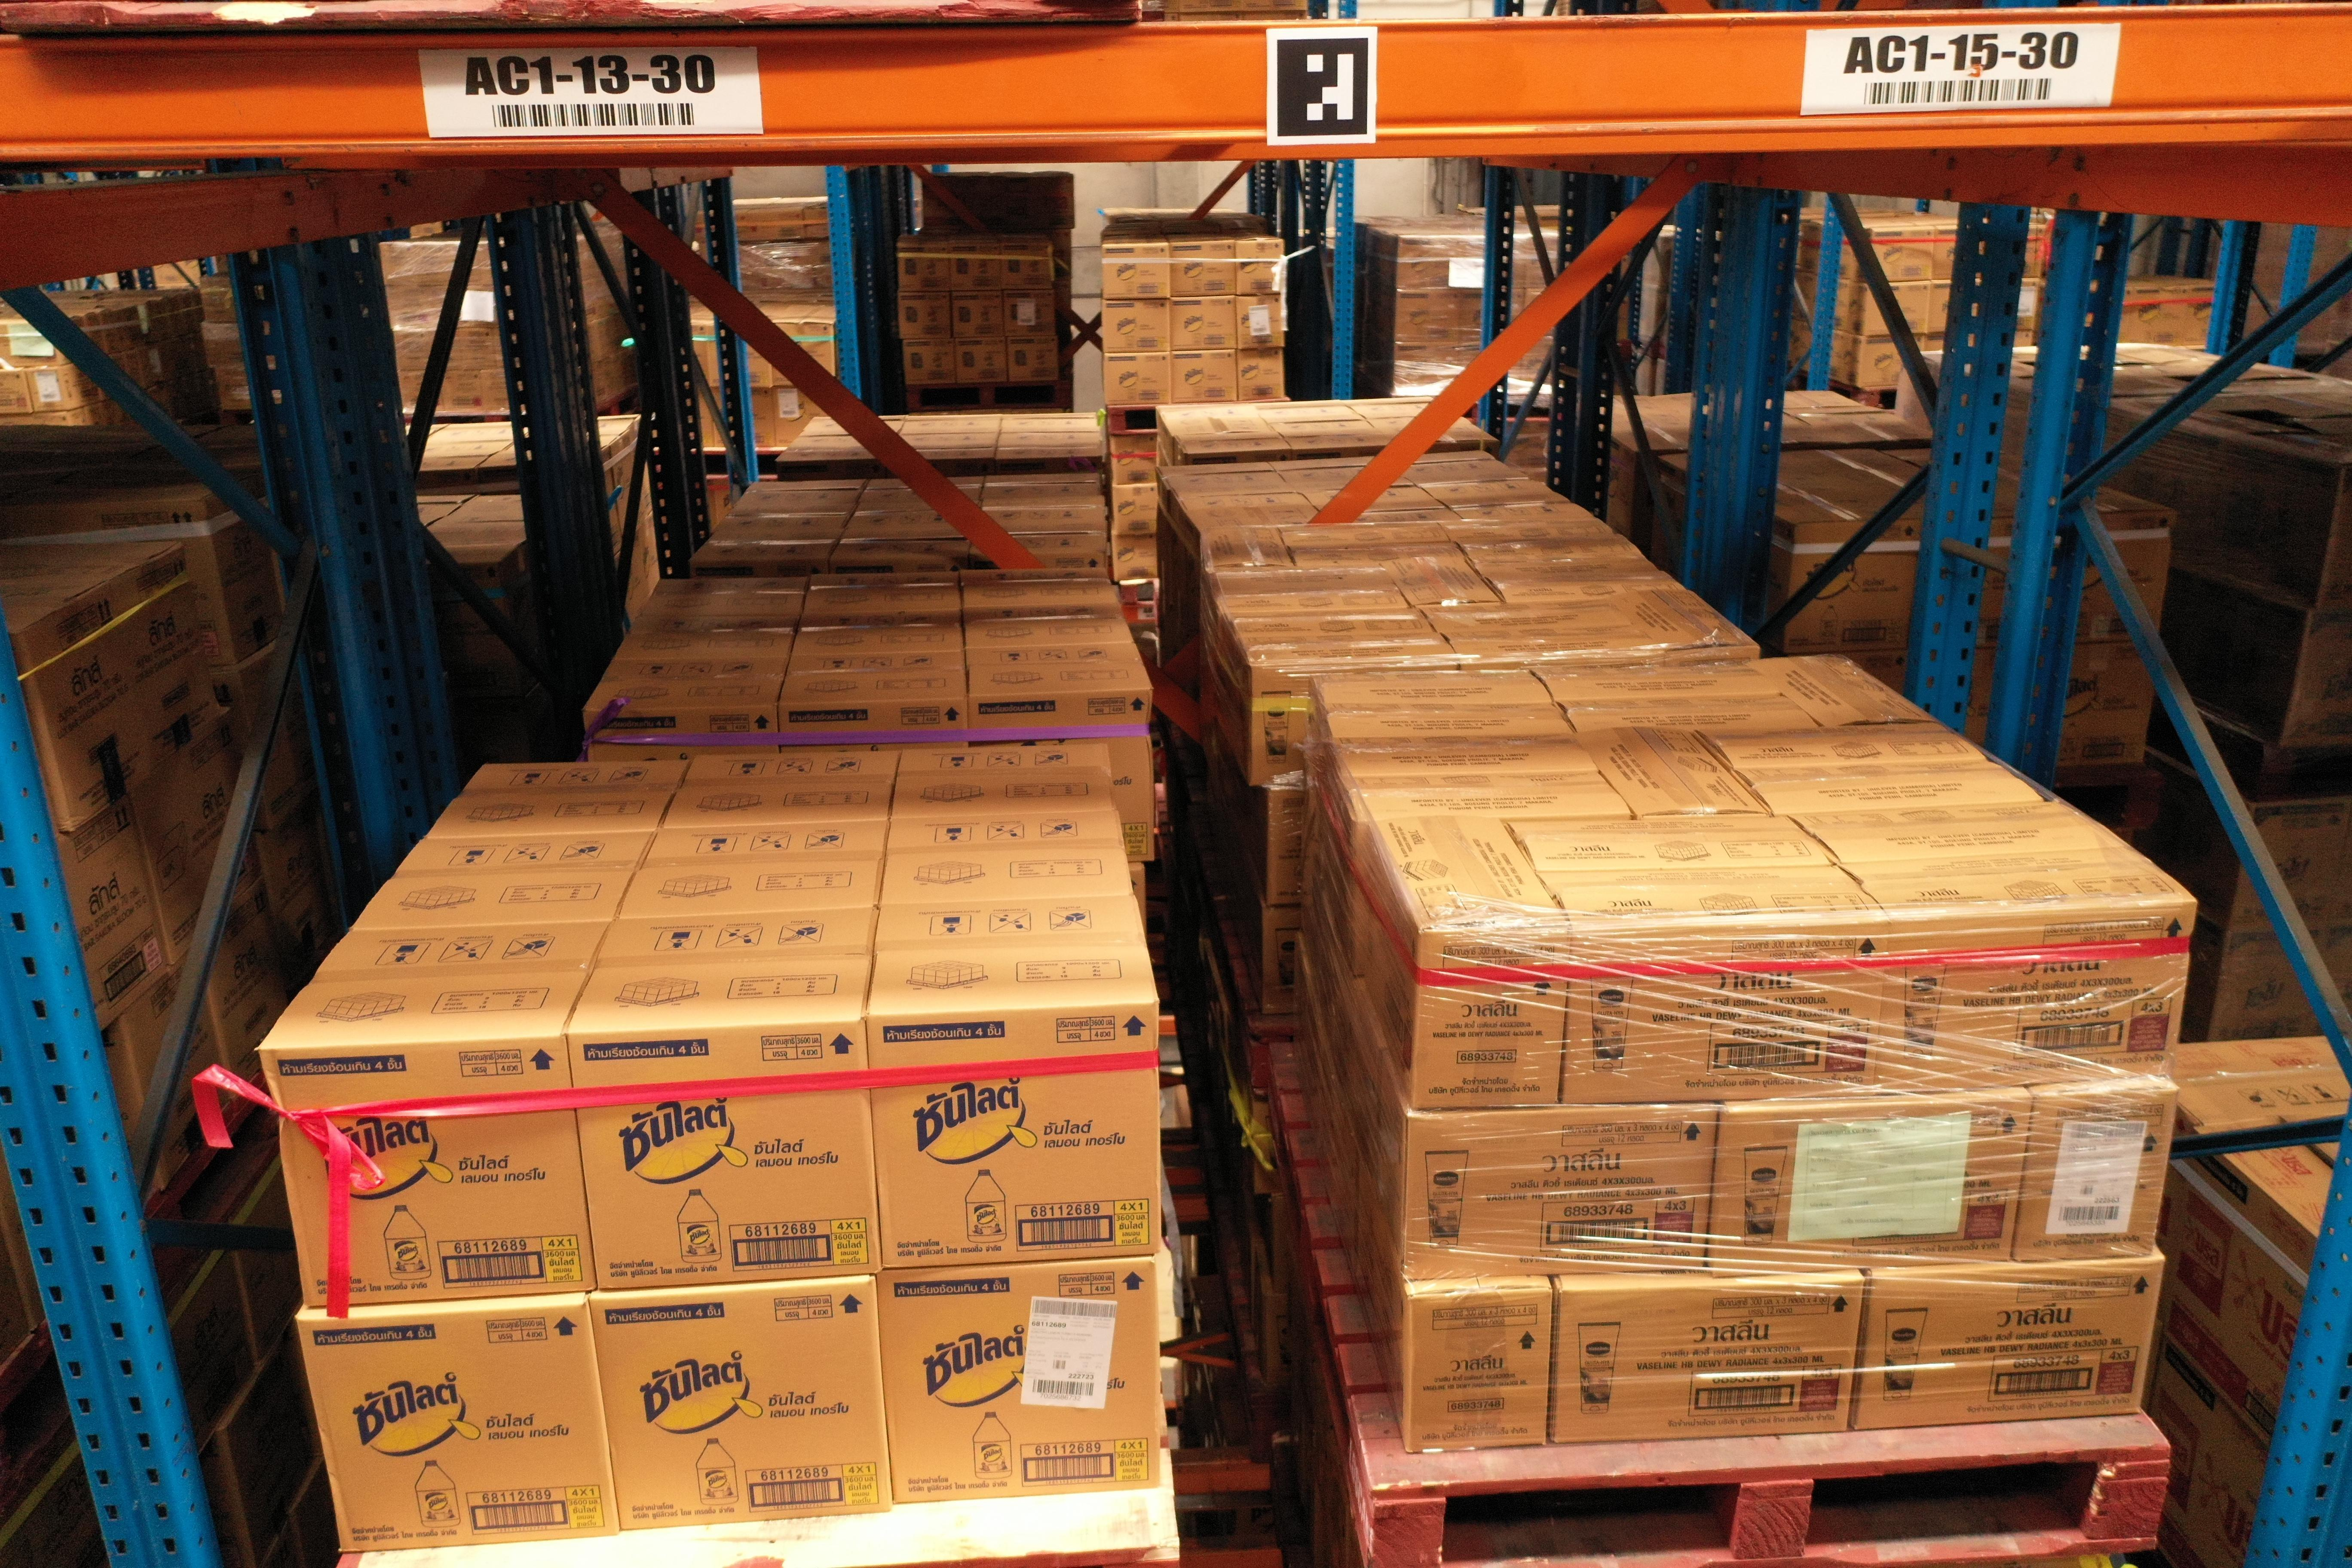-: (255, 1034, 600, 1309), (567, 1024, 885, 1293), (294, 1307, 623, 1552), (588, 1281, 891, 1535), (868, 1006, 1157, 1269), (878, 1260, 1162, 1505), (1563, 917, 1888, 1106), (1883, 899, 2196, 1092), (1710, 1097, 2032, 1279), (1402, 1104, 1718, 1276), (1855, 1260, 2163, 1431), (1554, 1279, 1867, 1445), (1409, 929, 1568, 1111), (2014, 1087, 2175, 1262), (1403, 1290, 1554, 1452)
